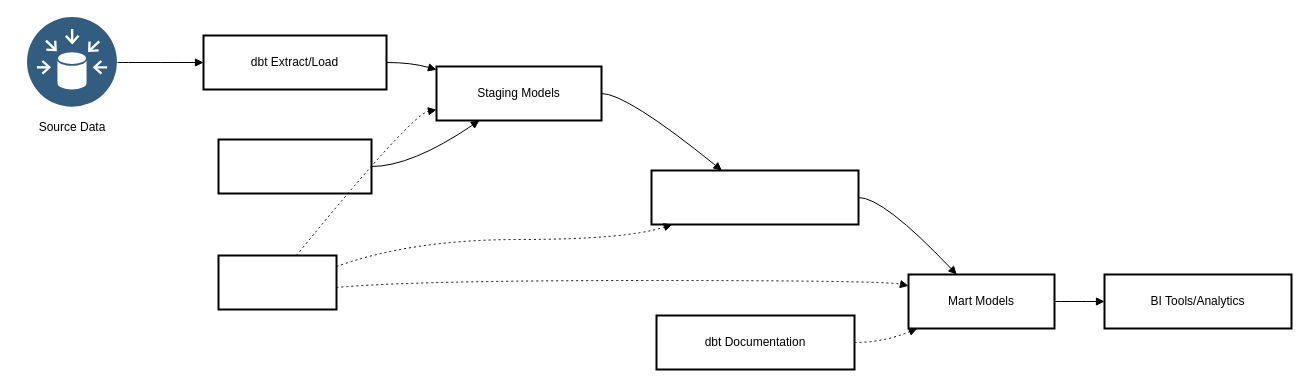
The diagram is 1309 pixels wide and 387 high, and some of its shapes have lost their labels. Each missing label, with the centre of its shape:
dbt Snapshot: point (294, 166)
dbt Test: point (277, 282)
Intermediate Models: point (754, 197)
